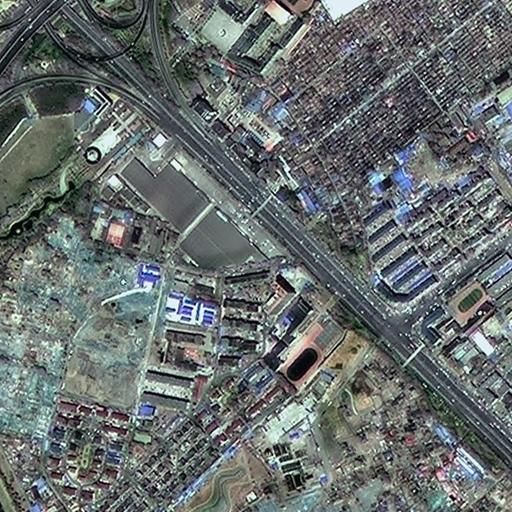school: (261, 296, 351, 388), (418, 279, 491, 346)
